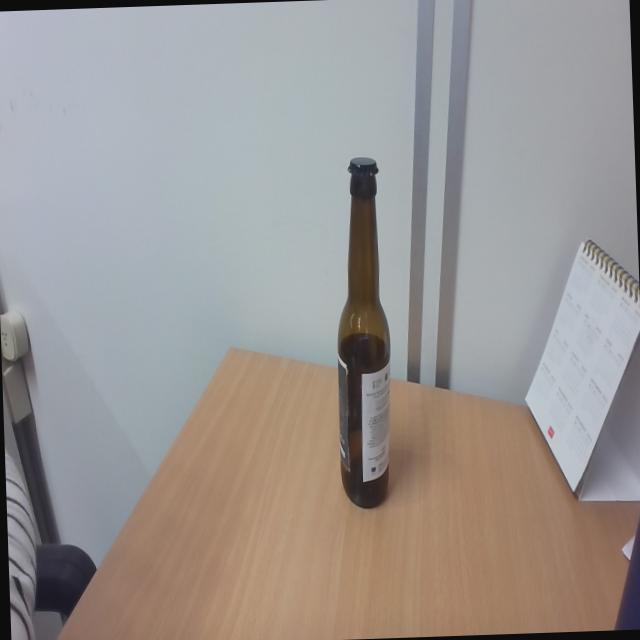Bottle: (331, 156, 397, 509)
Cap: (342, 157, 380, 180)
Label: (359, 372, 394, 478)
